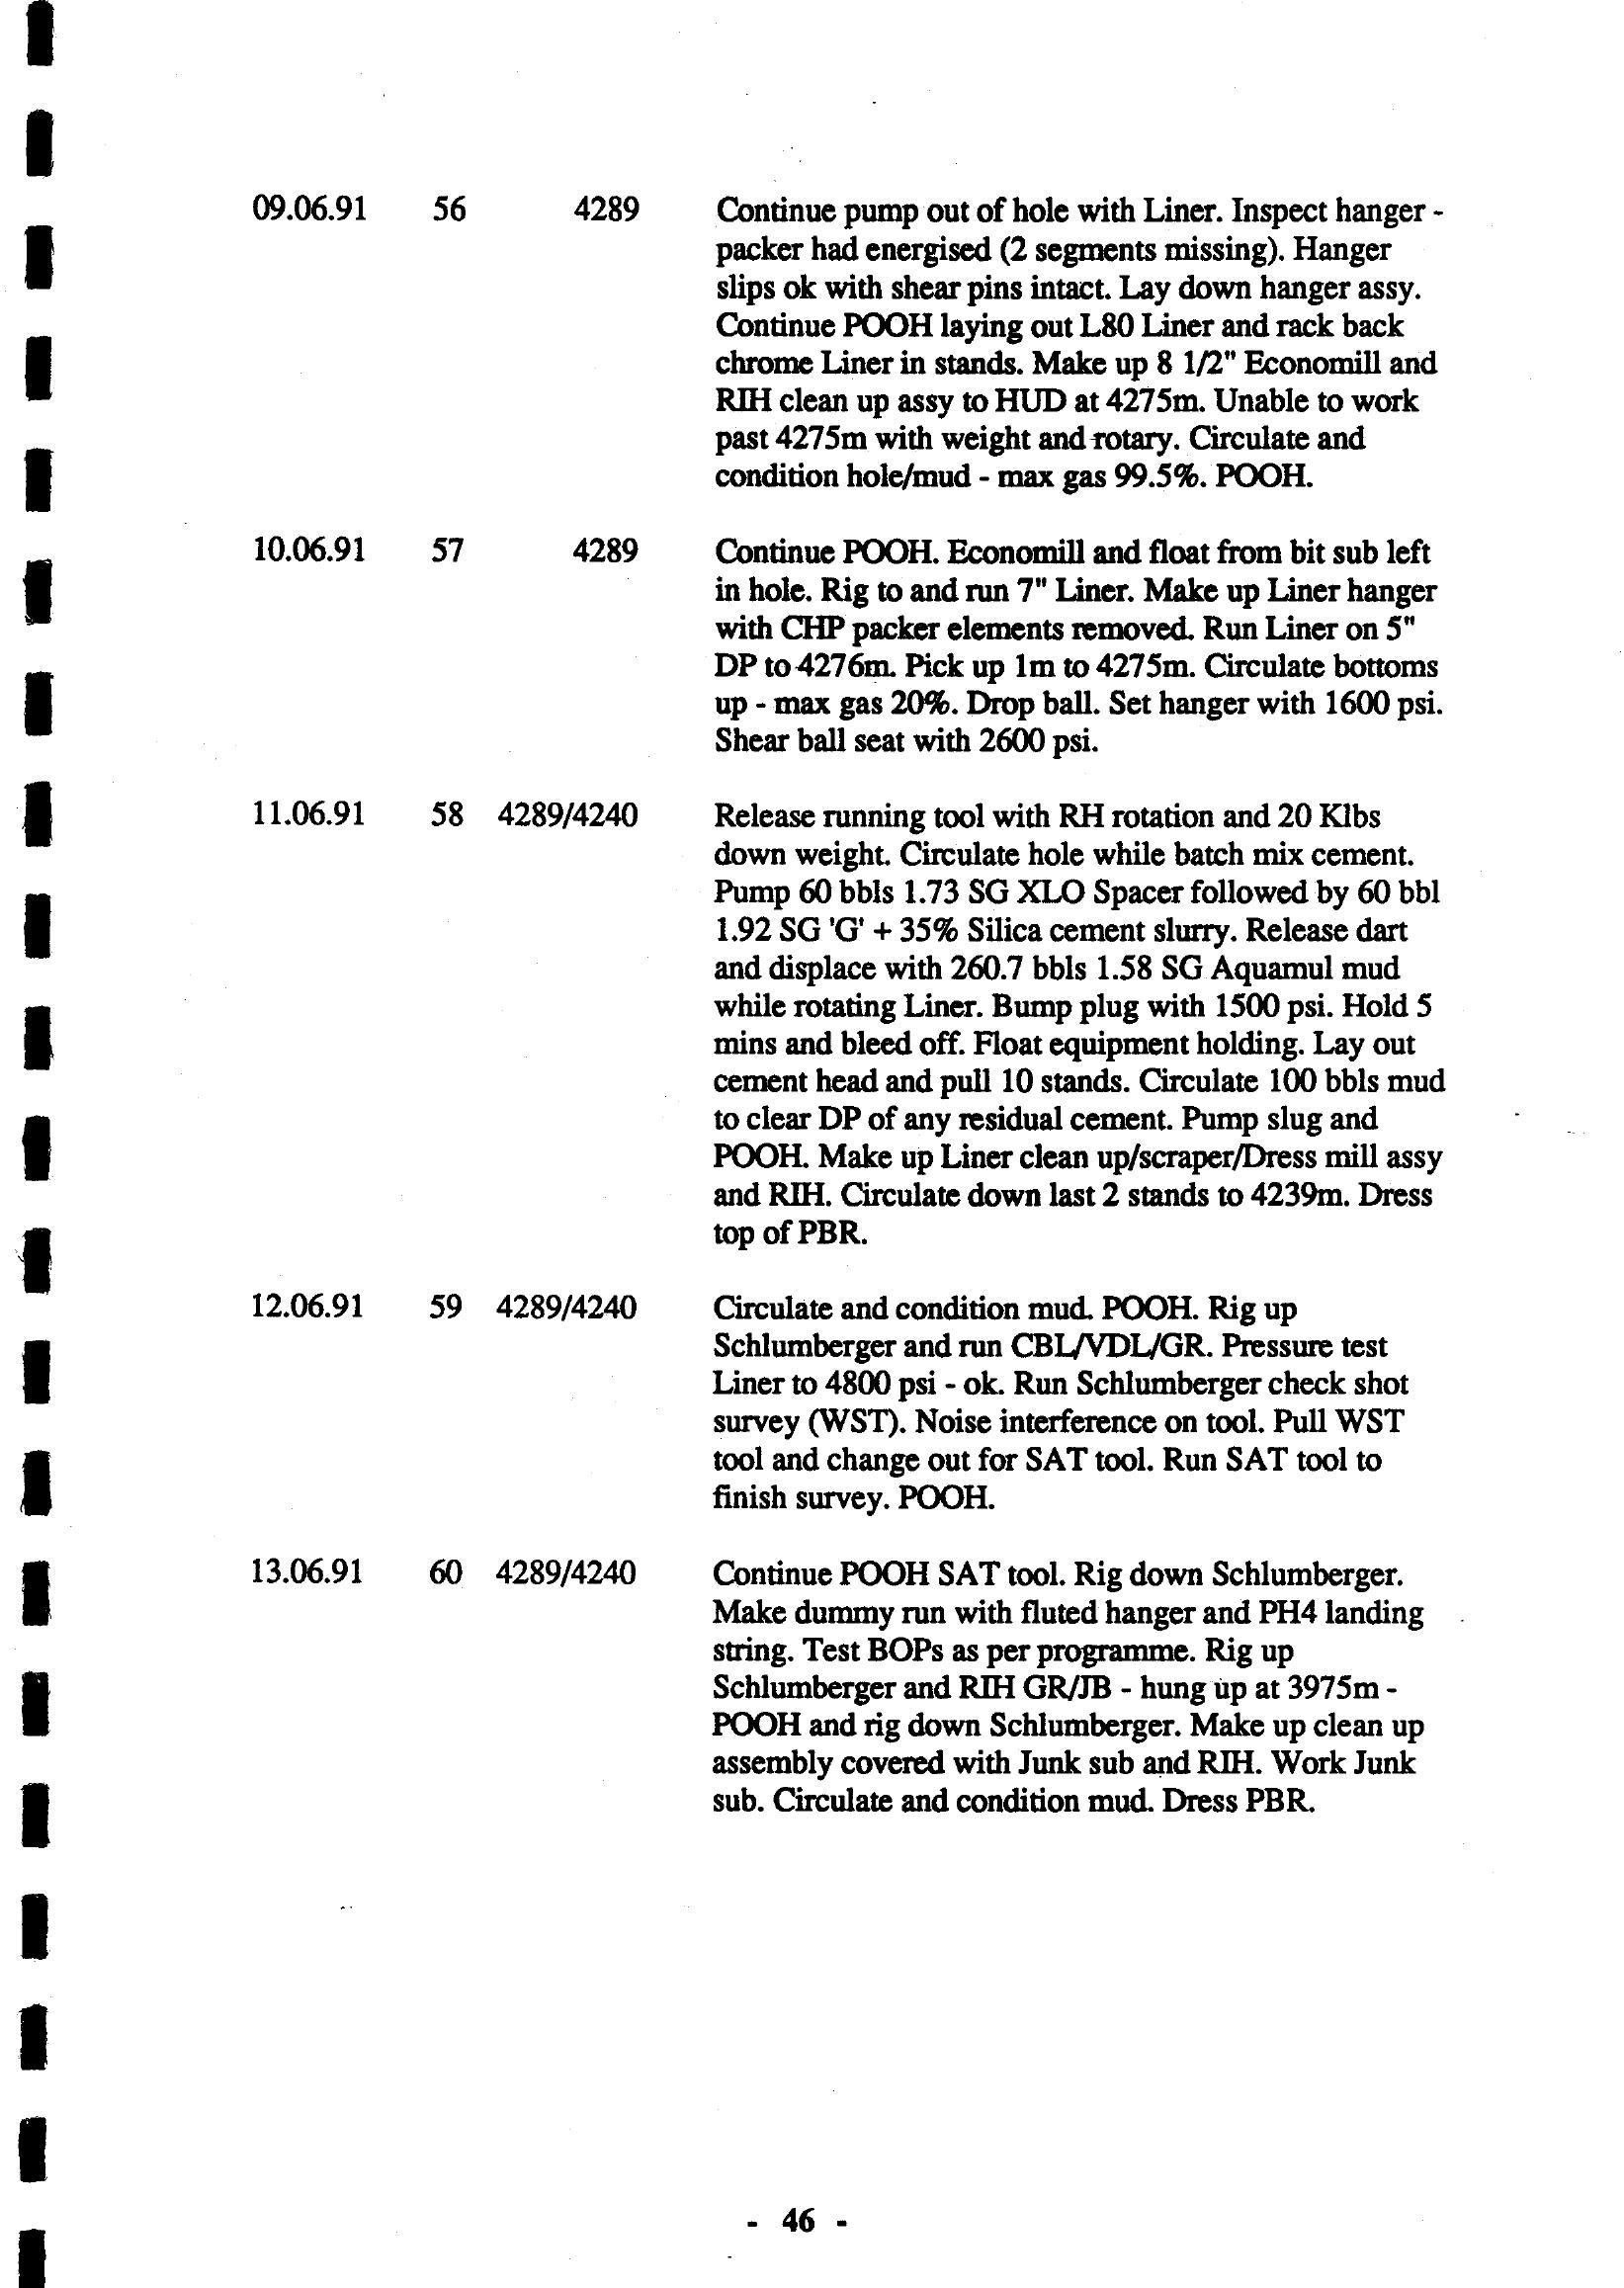text: (221, 125, 1468, 1873)
